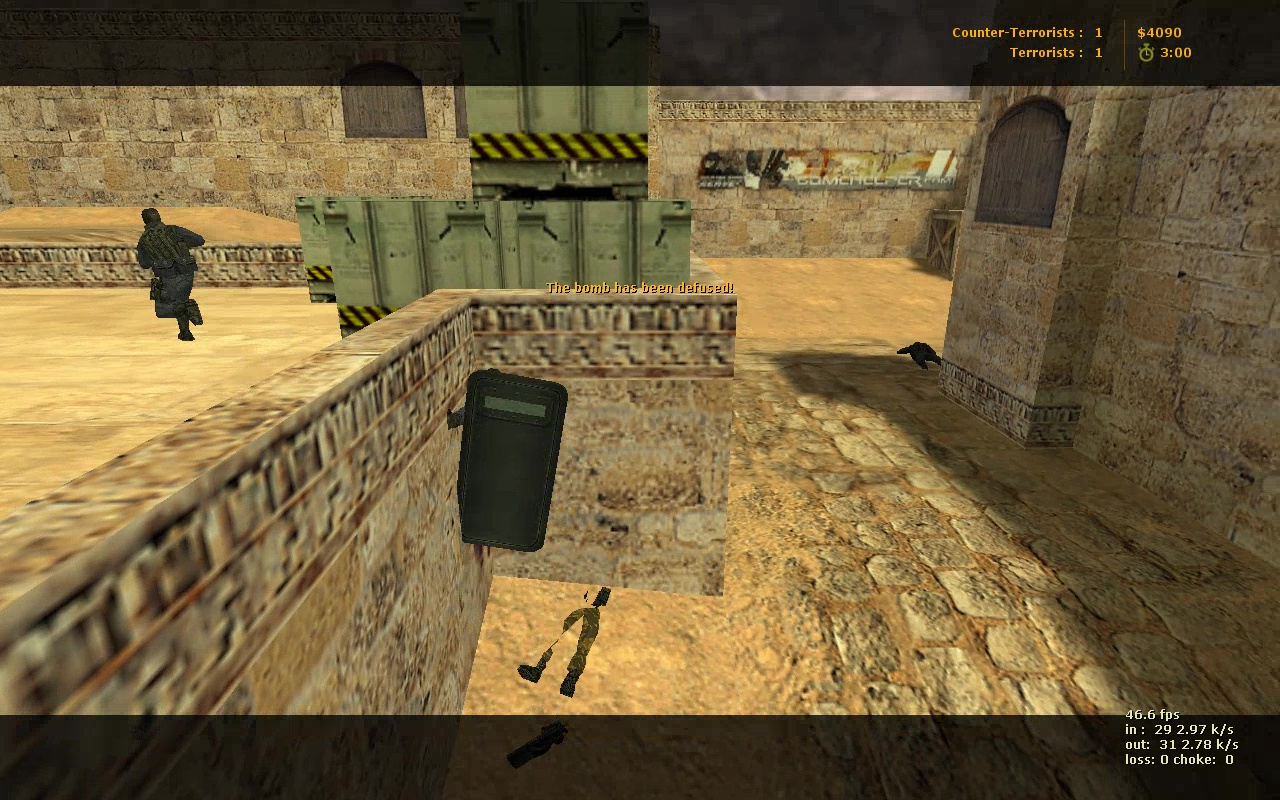ct: (459, 363, 565, 555), (135, 205, 209, 345)
dead: (902, 339, 944, 374)
